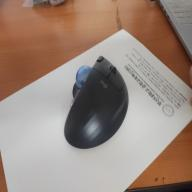mouse: (64, 55, 129, 148)
